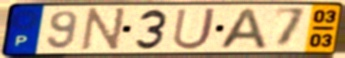3: (133, 8, 170, 51)
7: (273, 6, 307, 50)
9: (45, 9, 81, 50)
A: (216, 6, 270, 51)
N: (78, 6, 129, 53)
U: (170, 6, 219, 52)
